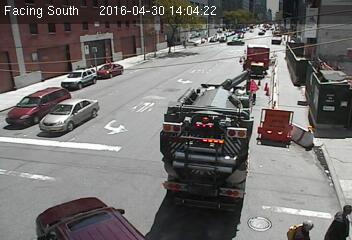neg: (200, 132, 240, 186), (151, 156, 186, 202), (165, 99, 196, 142), (77, 195, 105, 231), (235, 73, 261, 107), (208, 86, 232, 118)
pos: (326, 201, 351, 239), (295, 215, 313, 239)
